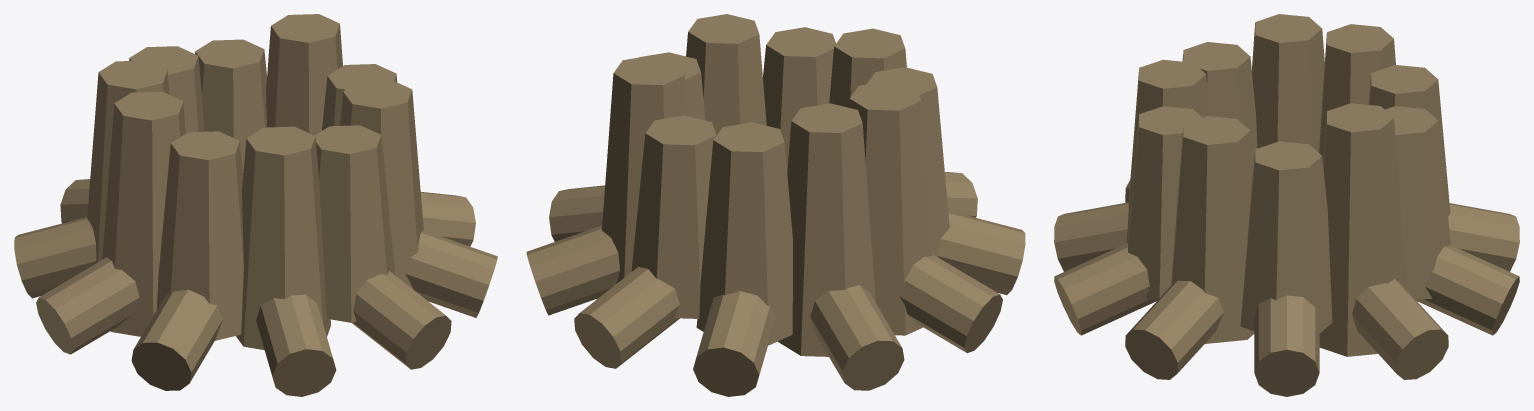
Rendered from Hollow_Stump_Barren.glb.
3 views of the same model, side by side, from view 1: azimuth 30°, elevation 25°; view 2: azimuth 150°, elevation 25°; view 3: azimuth 270°, elevation 25° (orthographic). The views are drawn at different scales.
Parts seen in each view (by area): view 1: Structure; view 2: Structure; view 3: Structure.
Part boxes in pixels (box(x1,y1,x2,y2)): Structure: box(14, 14, 497, 396); Structure: box(526, 14, 1025, 396); Structure: box(1054, 14, 1519, 396).
Size of the model in its own units: 1.78 by 0.9271 by 1.72.
